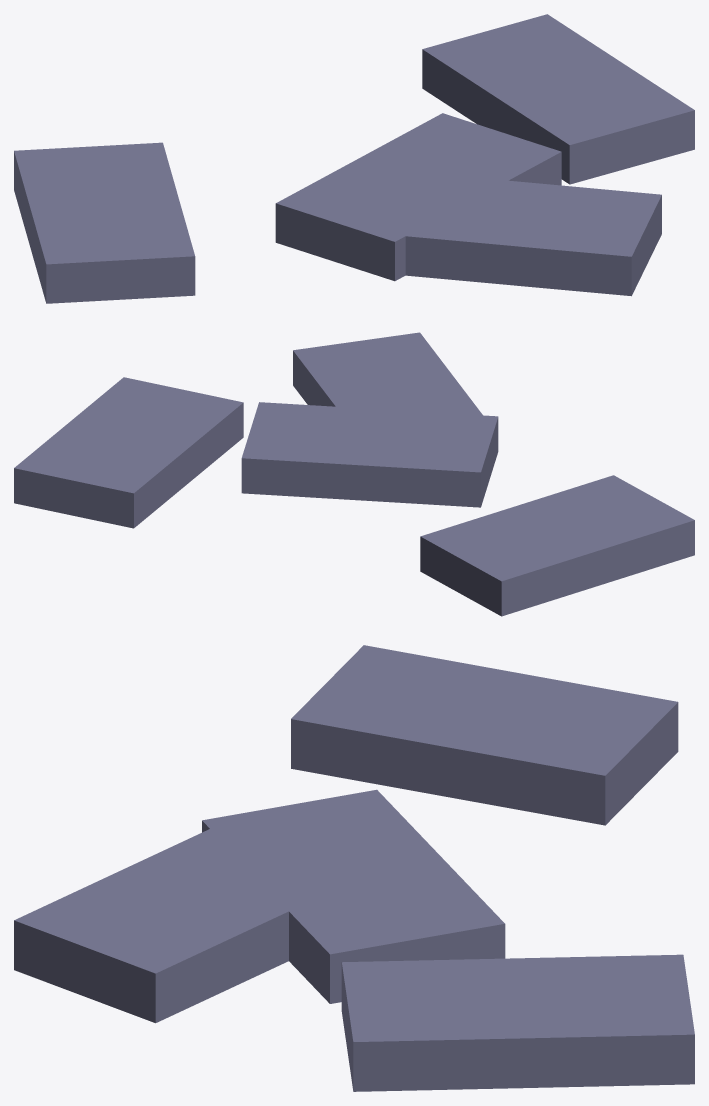
File: Staples.fbx
3 views of the same model, one above another, from view 1: azimuth 30°, elevation 25°; view 2: azimuth 150°, elevation 25°; view 3: azimuth 270°, elevation 25° (orthographic). The views are drawn at different scales.
Parts seen in each view (by area): view 1: Staples; view 2: Staples; view 3: Staples.
Part boxes in pixels (left/top/right/bottom): Staples: left=14, top=14, right=694, bottom=303; Staples: left=14, top=332, right=694, bottom=616; Staples: left=14, top=645, right=694, bottom=1091.
Bounding box in the file's own units: 16.62 × 0.9706 × 12.05.
